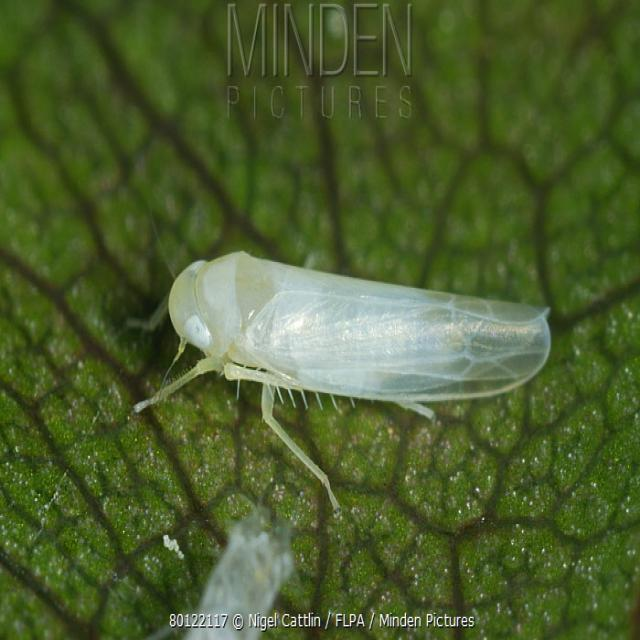Yechan: (151, 230, 572, 456)
